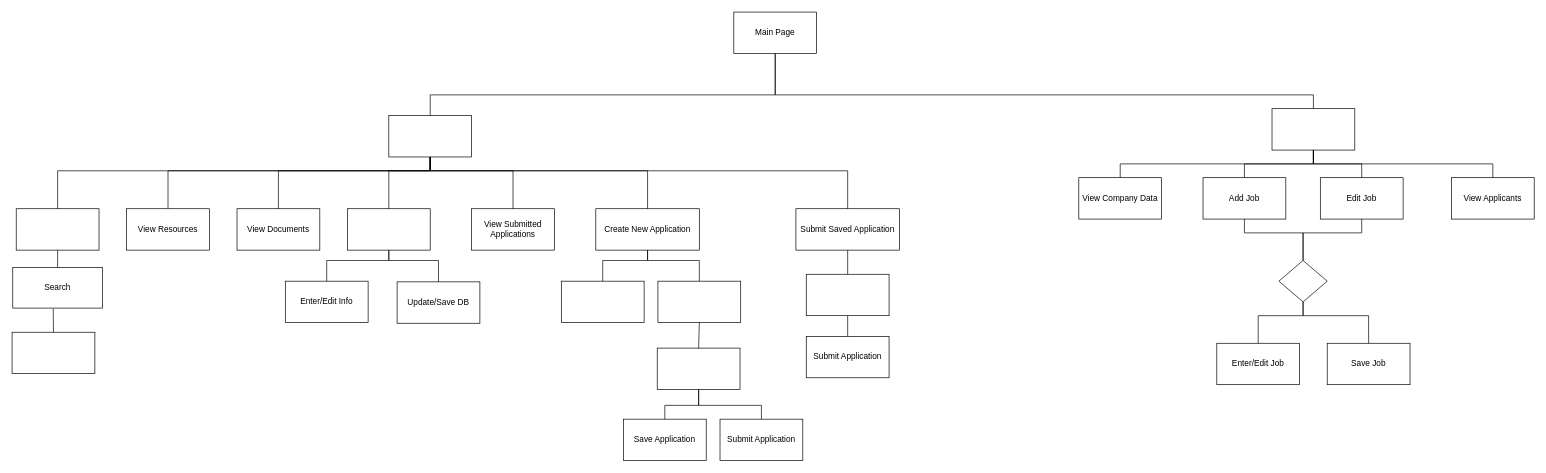
This 1546x473 diagram has some shape labels left out. The shapes that lost their labels are listed below. From the top down, each one's centre as x and y in pixels, then its label:
At pixel 430 136: "Job Seeker".
At pixel 1313 129: "Company".
At pixel 57 229: "Add Resources".
At pixel 388 229: "Edit Documents".
At pixel 602 301: "View Job Description".
At pixel 699 301: "Select Job".
At pixel 847 295: "Edit Uploaded Documents".
At pixel 53 353: "Save Resource".
At pixel 698 368: "Add Documents".
